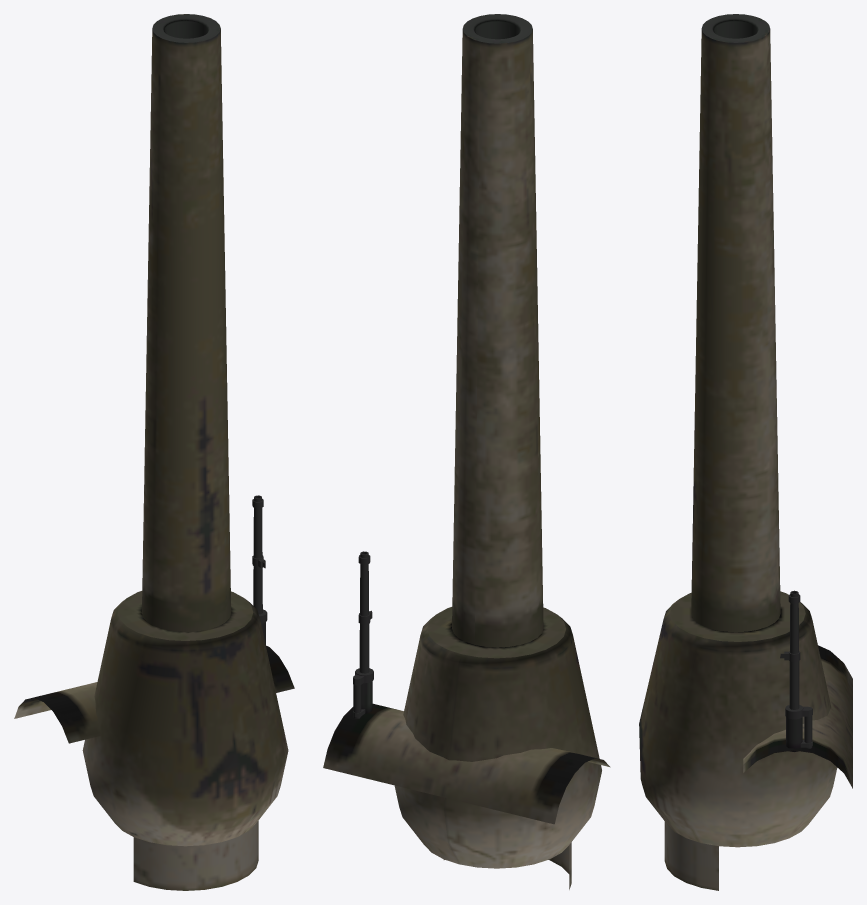
Rendered from Gun_06.glb.
3 renders of one model, left to right at view 1: azimuth 30°, elevation 25°; view 2: azimuth 150°, elevation 25°; view 3: azimuth 270°, elevation 25°, orthographic. The views are drawn at different scales.
Visible parts, largest first — view 1: set_0_group_0; view 2: set_0_group_0; view 3: set_0_group_0.
Boxes of the visible parts, <box> form: set_0_group_0: <box>14,14,294,890</box>; set_0_group_0: <box>323,14,610,889</box>; set_0_group_0: <box>639,14,852,890</box>.
Bounding box in the file's own units: 0.6151 × 2.17 × 0.5039.
Materials: 1 (1 with a texture image).
